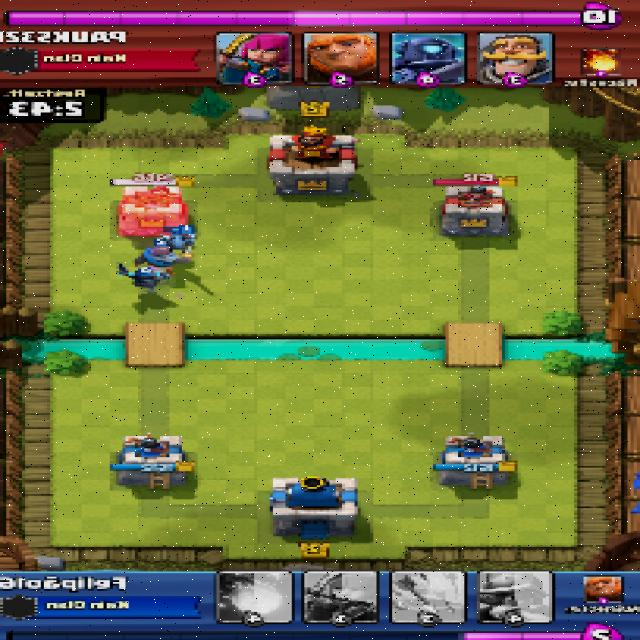Player-Knight: (142, 247, 179, 271)
Player-MiniPEKKA: (121, 265, 166, 291)
Player-Minion: (161, 232, 196, 252)
